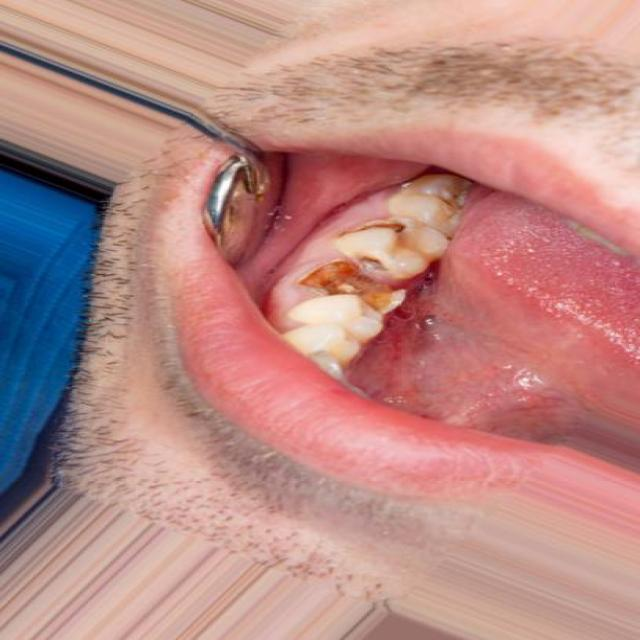caries: (294, 260, 413, 316), (337, 206, 417, 250), (355, 250, 389, 272)
